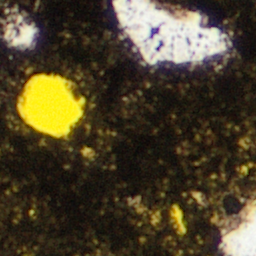air_pores: (18, 74, 84, 137)
cement_matrix: (0, 0, 255, 255), (17, 73, 85, 138), (3, 14, 36, 48), (171, 209, 182, 228)
cracks: (172, 210, 181, 227)
gravel_crushed_stones: (113, 0, 228, 65), (221, 198, 255, 255), (4, 15, 35, 47)
